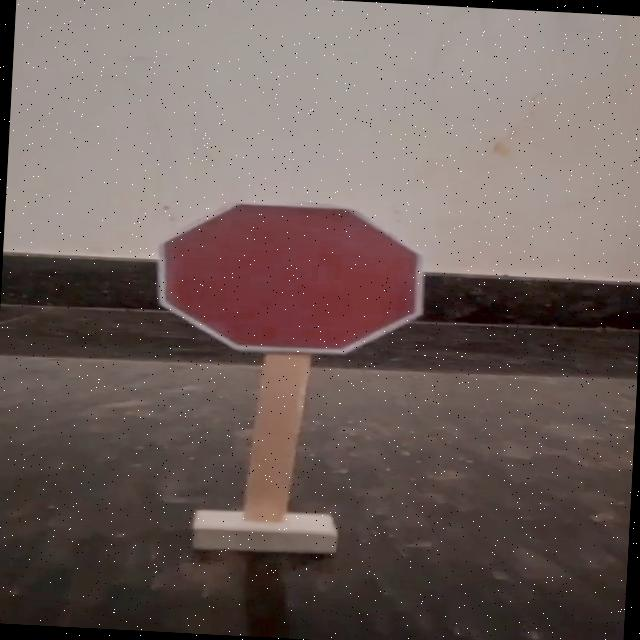Stop: (118, 179, 450, 375)
